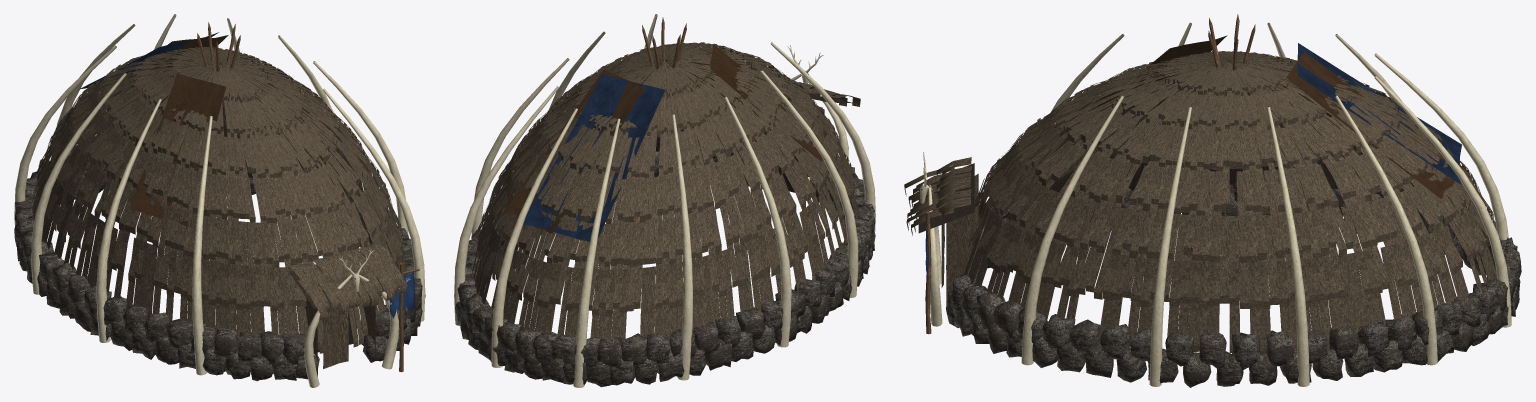
The model's file is SM_Bld_North_Hall.gltf.
The picture shows the model from 3 angles, left to right: view 1: azimuth 30°, elevation 25°; view 2: azimuth 150°, elevation 25°; view 3: azimuth 270°, elevation 25°; orthographic projection. The views are drawn at different scales.
Visible parts, largest first — view 1: SM_Bld_North_Hall; view 2: SM_Bld_North_Hall; view 3: SM_Bld_North_Hall.
Part boxes in pixels (x1,y1,x2,y2): SM_Bld_North_Hall: (14,14,425,387); SM_Bld_North_Hall: (454,14,875,387); SM_Bld_North_Hall: (904,14,1521,387).
Bounding box in the file's own units: 8.73 × 6.7 × 13.24.
Materials: 9 (8 with a texture image).
